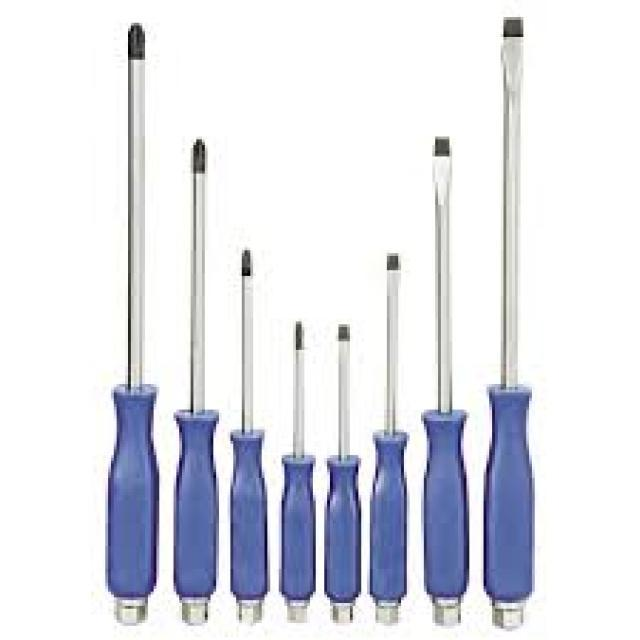screwdriver: (478, 6, 542, 640), (99, 9, 164, 630), (166, 130, 226, 628), (420, 122, 472, 628), (222, 237, 273, 629), (366, 241, 416, 628), (316, 316, 365, 628), (277, 303, 322, 636)
